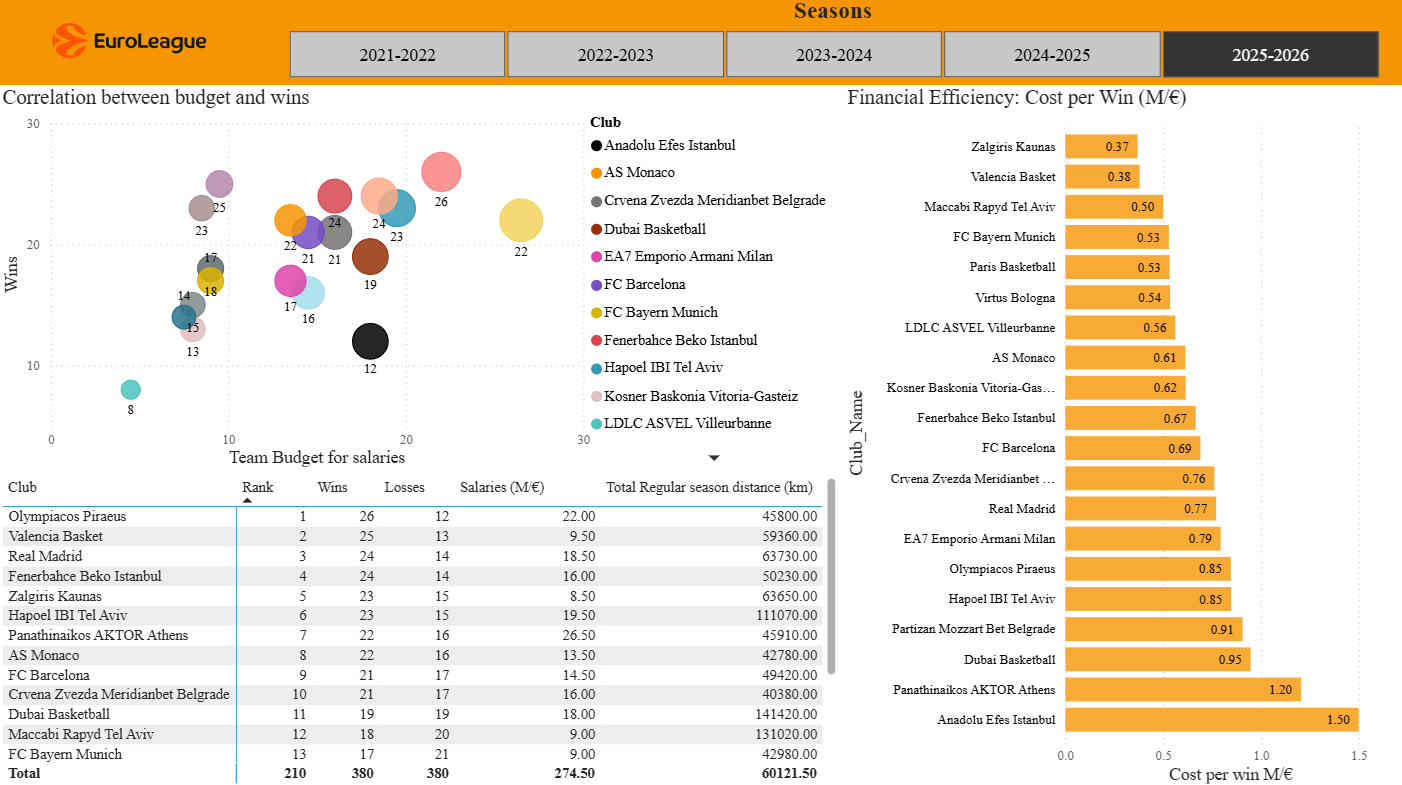

What the dashboard file says about the page in this screenshot:
{"tool":"powerbi","page":{"name":"Travel and budgets","canvas":[1280,720],"ordinal":2},"visuals":[{"type":"scatterChart","title":"Correlation between budget and wins","fields":{"Y":["Standings.Wins"],"Series":["Clubs Dimension.Club_Name"],"X":["Sum(Budgets.Players/coaches salaries (net) M/€)"],"Size":["Sum(Budgets.Players/coaches salaries (net) M/€)"]},"box":[0,80,768,352],"z":0},{"type":"slicer","title":"Seasons","fields":{"Values":["Seasons Dimension.Seasons"]},"box":[240,0,1040,80],"z":1000},{"type":"pivotTable","fields":{"Rows":["Clubs Dimension.Club_Name"],"Values":["Sum(Standings.Rank)","Sum(Standings.Wins)","Sum(Standings.Losses)","Sum(Budgets.Players/coaches salaries (net) M/€)","Avg(Euroleague travel distance.Total Regular season distance)"]},"box":[0,432,768,288],"z":2000},{"type":"clusteredBarChart","title":"Financial Efficiency: Cost per Win (M/€)","fields":{"Category":["Clubs Dimension.Club_Name"],"Y":["Measures (2).Cost Per Win"]},"box":[768,80,512,640],"z":3000},{"type":"shape","box":[0,0,240,80],"z":4000},{"type":"image","box":[48,24,144,32],"z":5000}]}

Visuals, with their boxes in screenshot pixels (x1, y1, x2, y2), scaled from the page's 1280x720 canvas onto the 1402x785 screenshot:
"Correlation between budget and wins" scatterChart: left=0, top=87, right=841, bottom=471
"Seasons" slicer: left=263, top=0, right=1401, bottom=87
pivotTable - Clubs Dimension.Club_Name x Sum(Standings.Rank): left=0, top=471, right=841, bottom=784
"Financial Efficiency: Cost per Win (M/€)" clusteredBarChart: left=841, top=87, right=1401, bottom=784
shape: left=0, top=0, right=263, bottom=87
image: left=53, top=26, right=210, bottom=61
